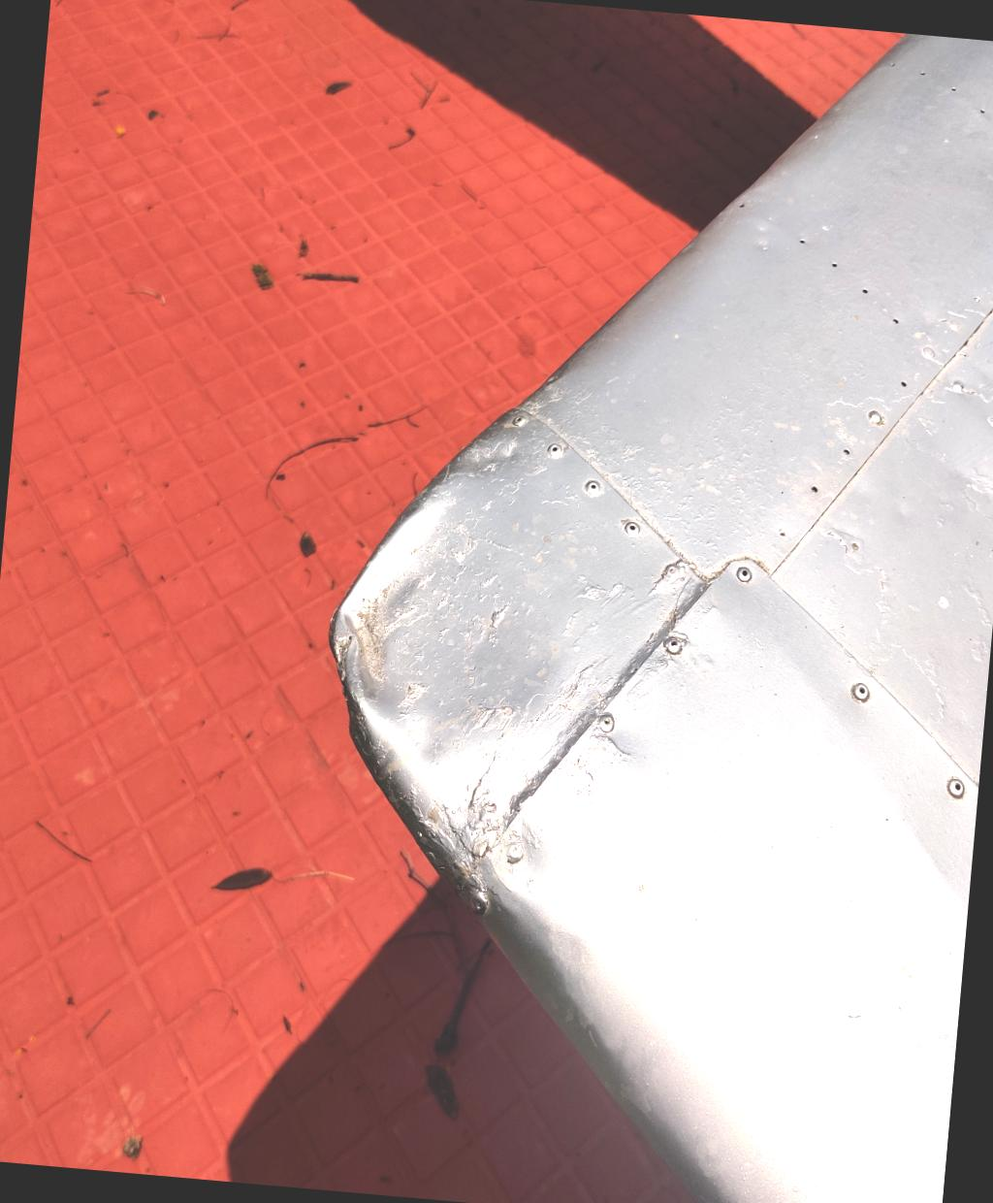dent: (276, 449, 539, 785)
